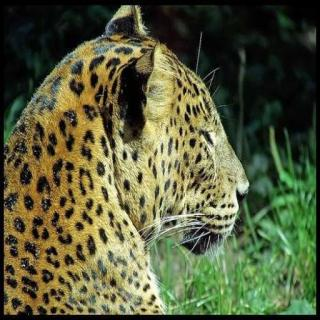Leopard: (9, 7, 269, 310)
